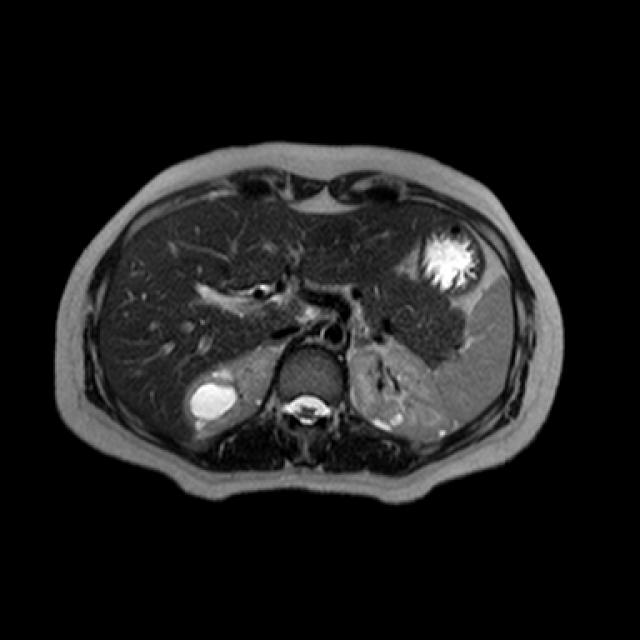sag: (180, 347, 277, 435)
sol: (350, 345, 452, 441)
